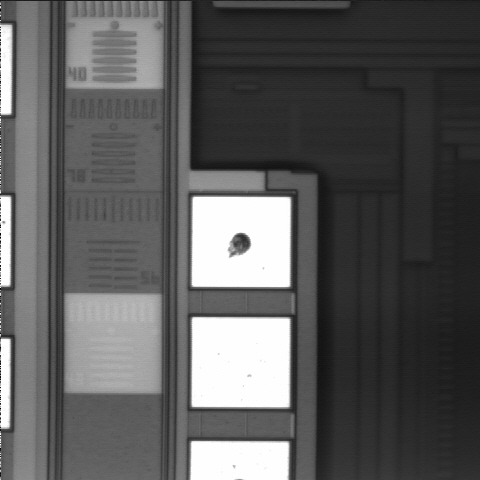pad: (192, 197, 291, 287), (192, 317, 290, 407)
